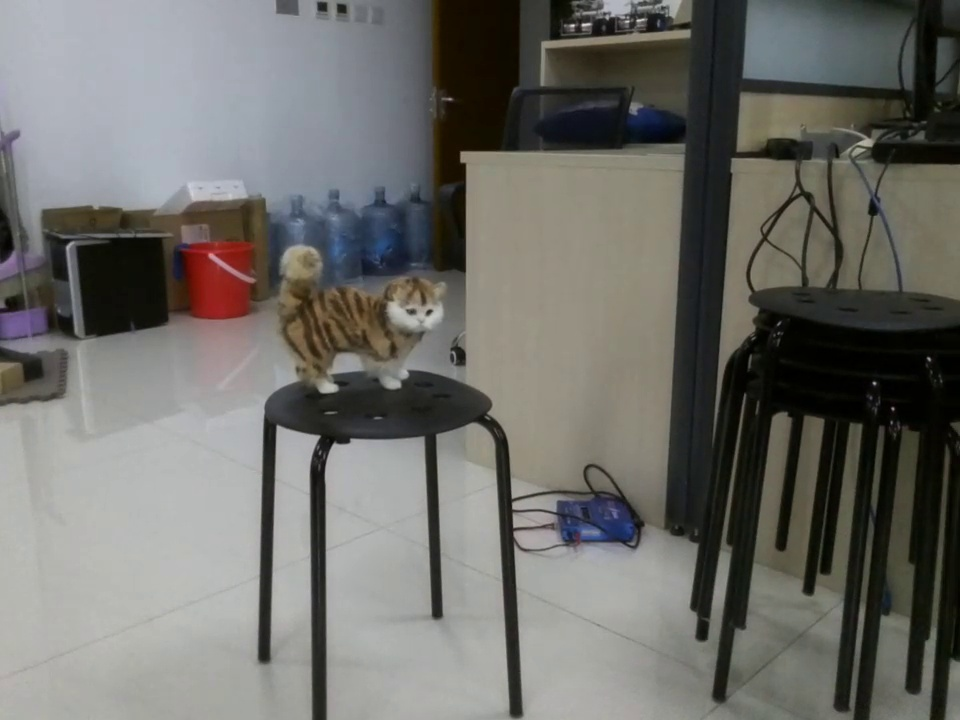cat: (271, 243, 447, 397)
